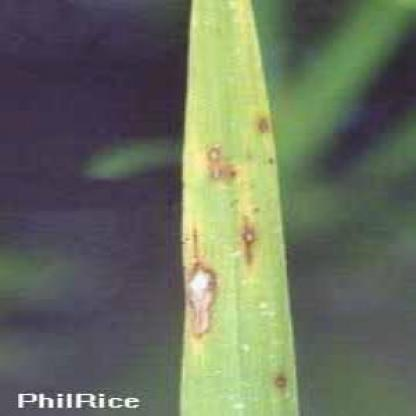Rice blast: (186, 263, 215, 349), (231, 215, 265, 270), (205, 143, 242, 190)
